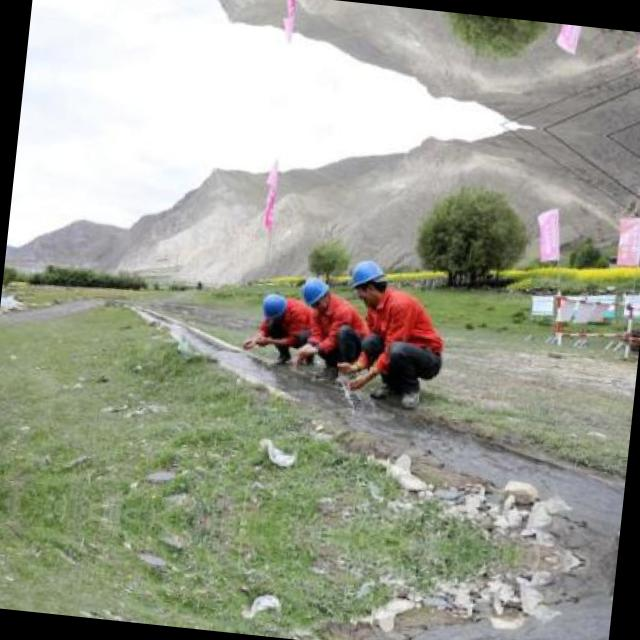helmet: (344, 256, 388, 304), (294, 270, 334, 312), (253, 288, 288, 322)
